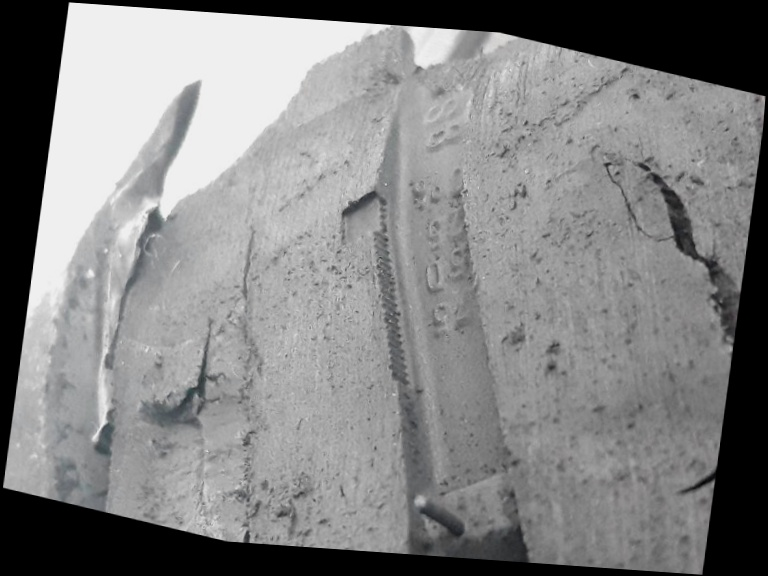temoin:25: (322, 171, 420, 301)
